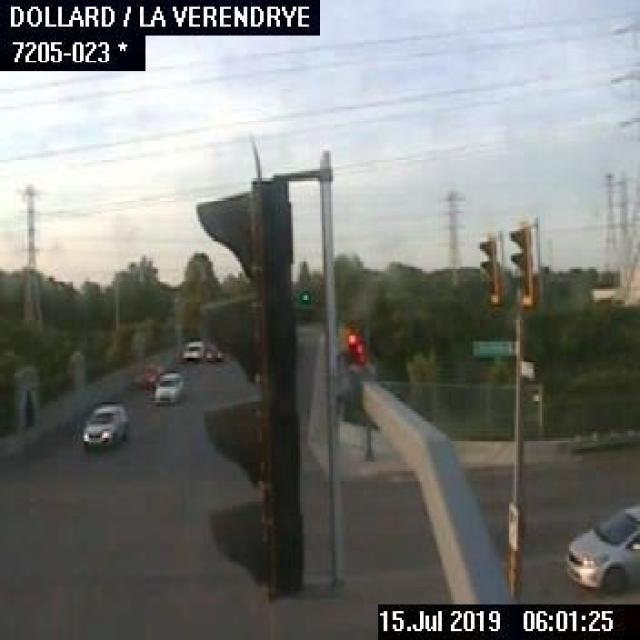vehicle: (562, 504, 638, 596), (80, 402, 124, 442), (152, 369, 184, 402), (132, 361, 161, 387), (182, 336, 202, 360), (204, 340, 224, 362)
